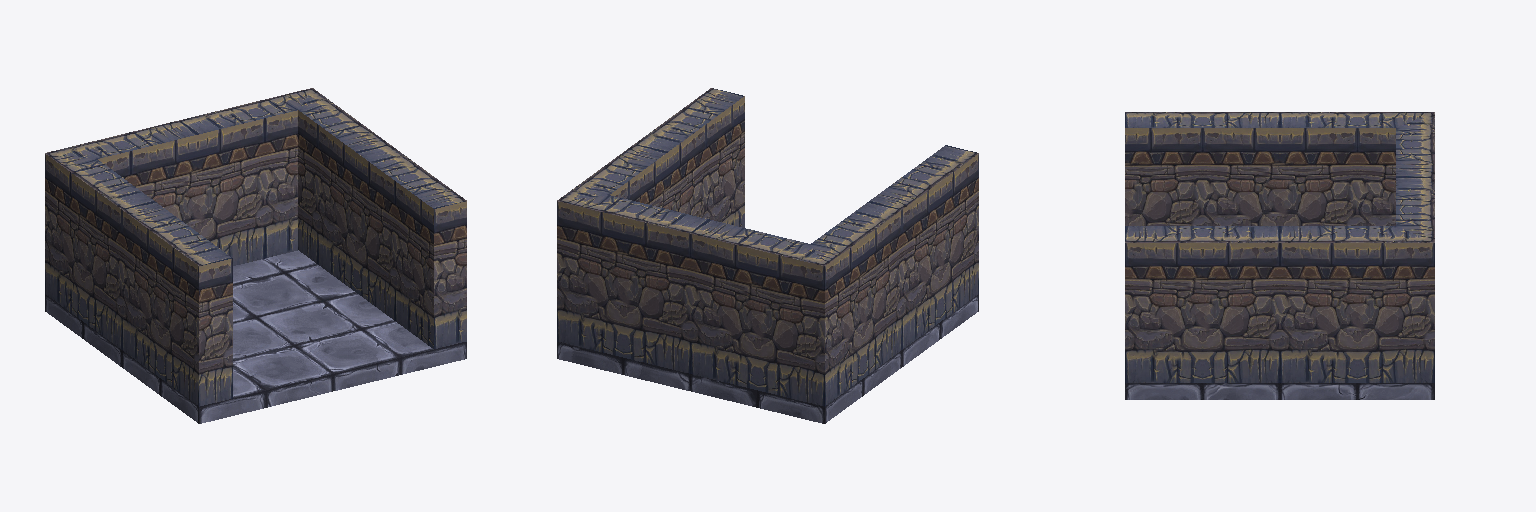
3 views of the same model, side by side, from view 1: azimuth 30°, elevation 25°; view 2: azimuth 150°, elevation 25°; view 3: azimuth 270°, elevation 25° (orthographic).
Visible parts, largest first — view 1: Mesh1 Group1 Model, Mesh2 Group2 Model; view 2: Mesh1 Group1 Model, Mesh2 Group2 Model; view 3: Mesh1 Group1 Model, Mesh2 Group2 Model.
Boxes of the visible parts, box(x1,y1,x2,y2) form: Mesh1 Group1 Model: box(45, 88, 466, 406); Mesh2 Group2 Model: box(45, 250, 466, 423); Mesh1 Group1 Model: box(557, 88, 978, 406); Mesh2 Group2 Model: box(557, 294, 978, 423); Mesh1 Group1 Model: box(1125, 112, 1434, 382); Mesh2 Group2 Model: box(1125, 383, 1434, 399).
Bounding box in the file's own units: 157 × 88.58 × 157.
2 materials, 2 textured.